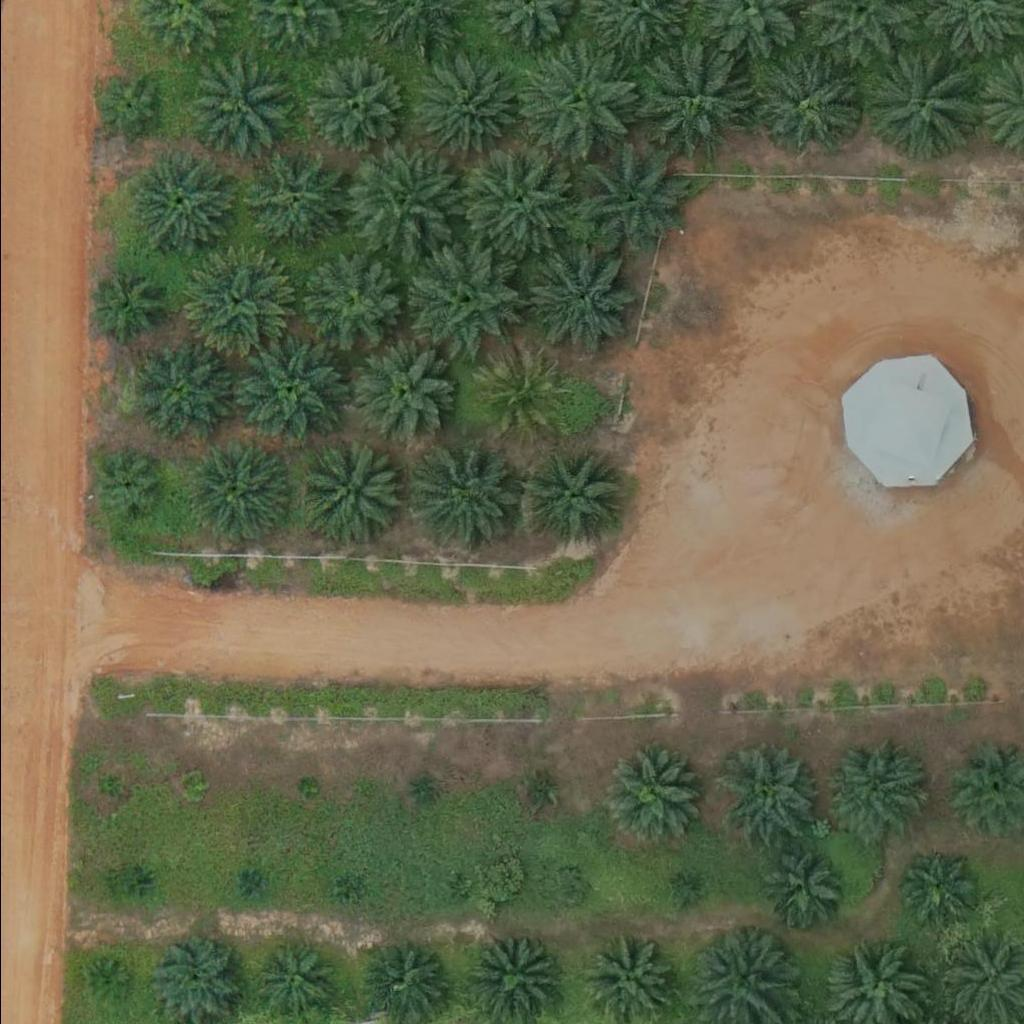Kelapa_Sawit: (522, 247, 636, 360), (406, 245, 520, 358), (571, 145, 685, 258), (860, 46, 973, 159), (234, 334, 347, 447), (465, 145, 579, 257), (632, 48, 746, 160), (173, 247, 286, 359), (408, 442, 521, 554), (341, 142, 454, 254), (519, 45, 632, 157), (826, 736, 927, 836), (715, 744, 816, 844), (607, 742, 708, 842), (520, 444, 621, 544), (128, 341, 229, 441), (237, 150, 338, 250), (130, 154, 231, 254), (414, 56, 515, 156), (301, 57, 402, 157), (192, 57, 293, 157), (754, 56, 854, 156), (301, 439, 401, 539), (187, 444, 287, 544), (348, 345, 448, 445), (298, 251, 398, 351), (470, 350, 558, 438), (465, 932, 553, 1019), (758, 845, 846, 932), (89, 450, 165, 525), (898, 852, 974, 927), (84, 268, 159, 343), (90, 72, 165, 147), (545, 870, 583, 908), (90, 963, 128, 1001), (673, 883, 698, 908), (443, 879, 468, 904), (327, 873, 352, 898), (523, 779, 548, 804), (410, 779, 435, 804), (292, 775, 317, 800), (180, 771, 205, 796), (96, 774, 121, 799), (238, 874, 263, 899), (128, 867, 153, 892)
